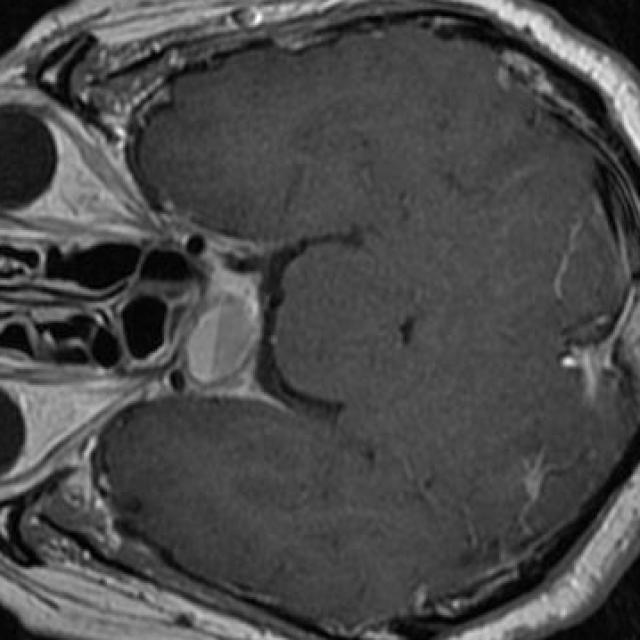pituitary: (187, 273, 262, 389)
